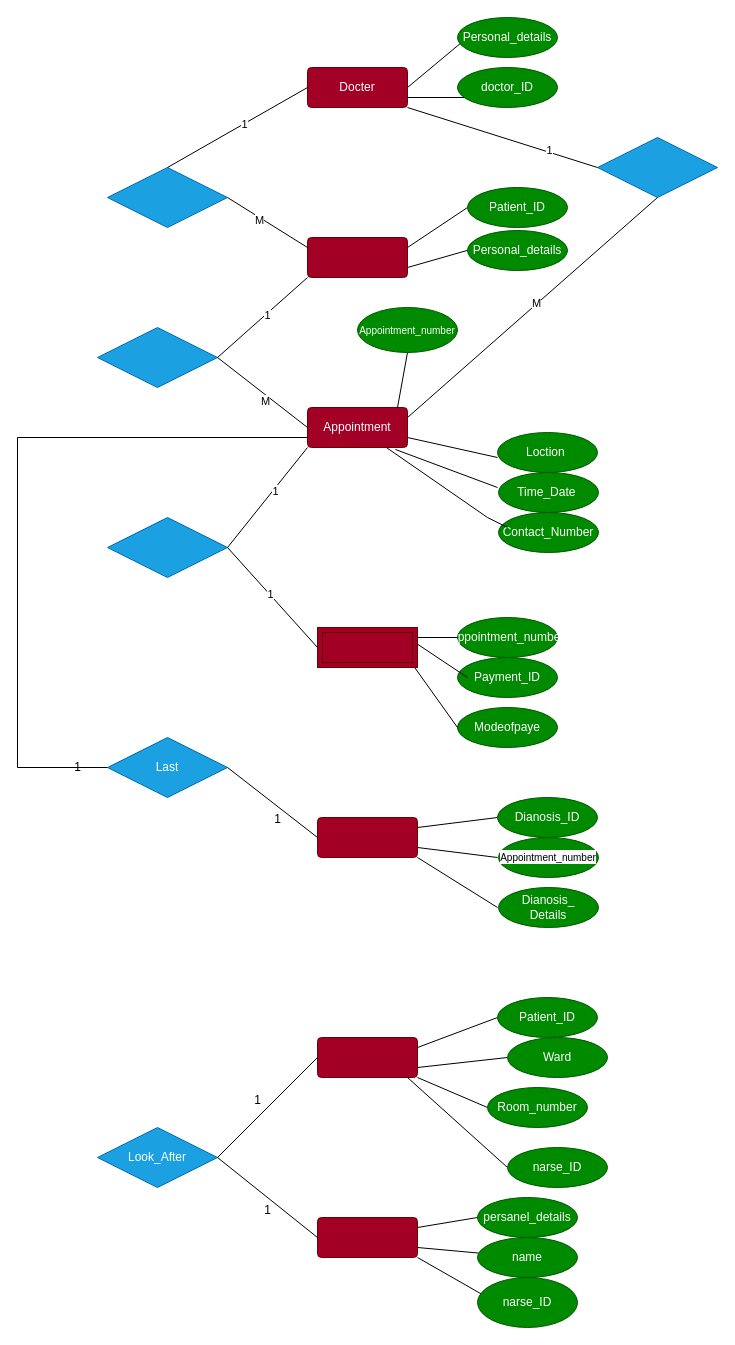
Some shapes in this 735 by 1345 pixel diagram are drawn without their labels. The centre of each missing label's shape, as x and y in pixels:
Admited patient: the point at 367,1057
appintment: the point at 167,197
Dianosis: the point at 367,837
Make: the point at 157,357
Nurse: the point at 367,1237
Patient: the point at 357,257
Payment: the point at 367,647
Recoded: the point at 167,547
see: the point at 657,167
